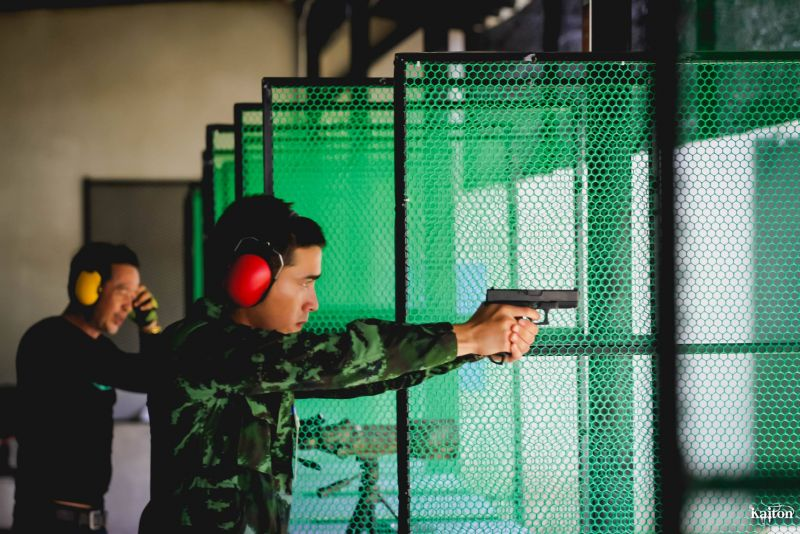gun: (472, 280, 589, 368)
